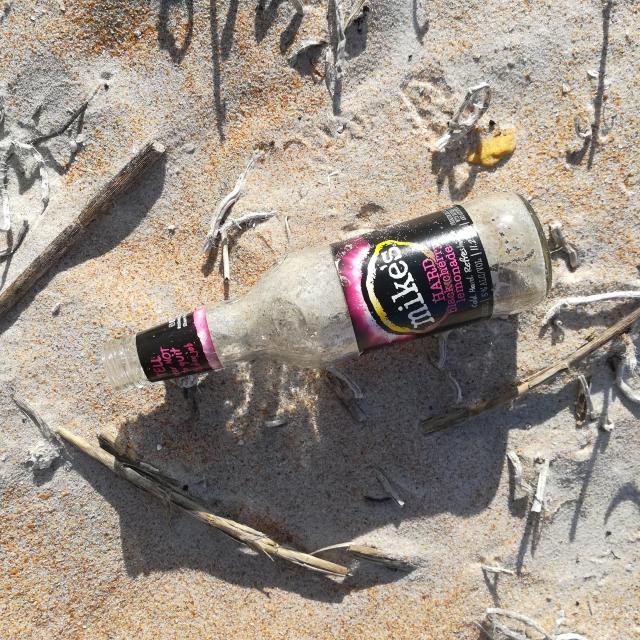litter: (98, 186, 552, 393)
